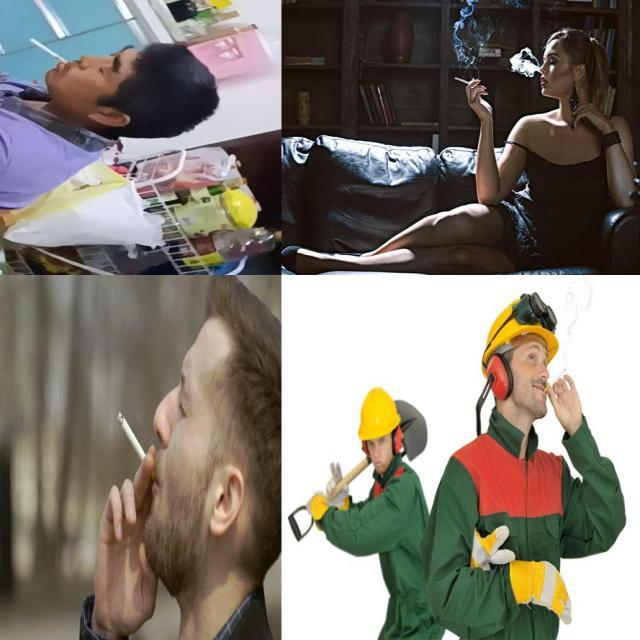smoking: (117, 411, 159, 487), (28, 38, 68, 65), (542, 368, 566, 394), (452, 74, 477, 89)
